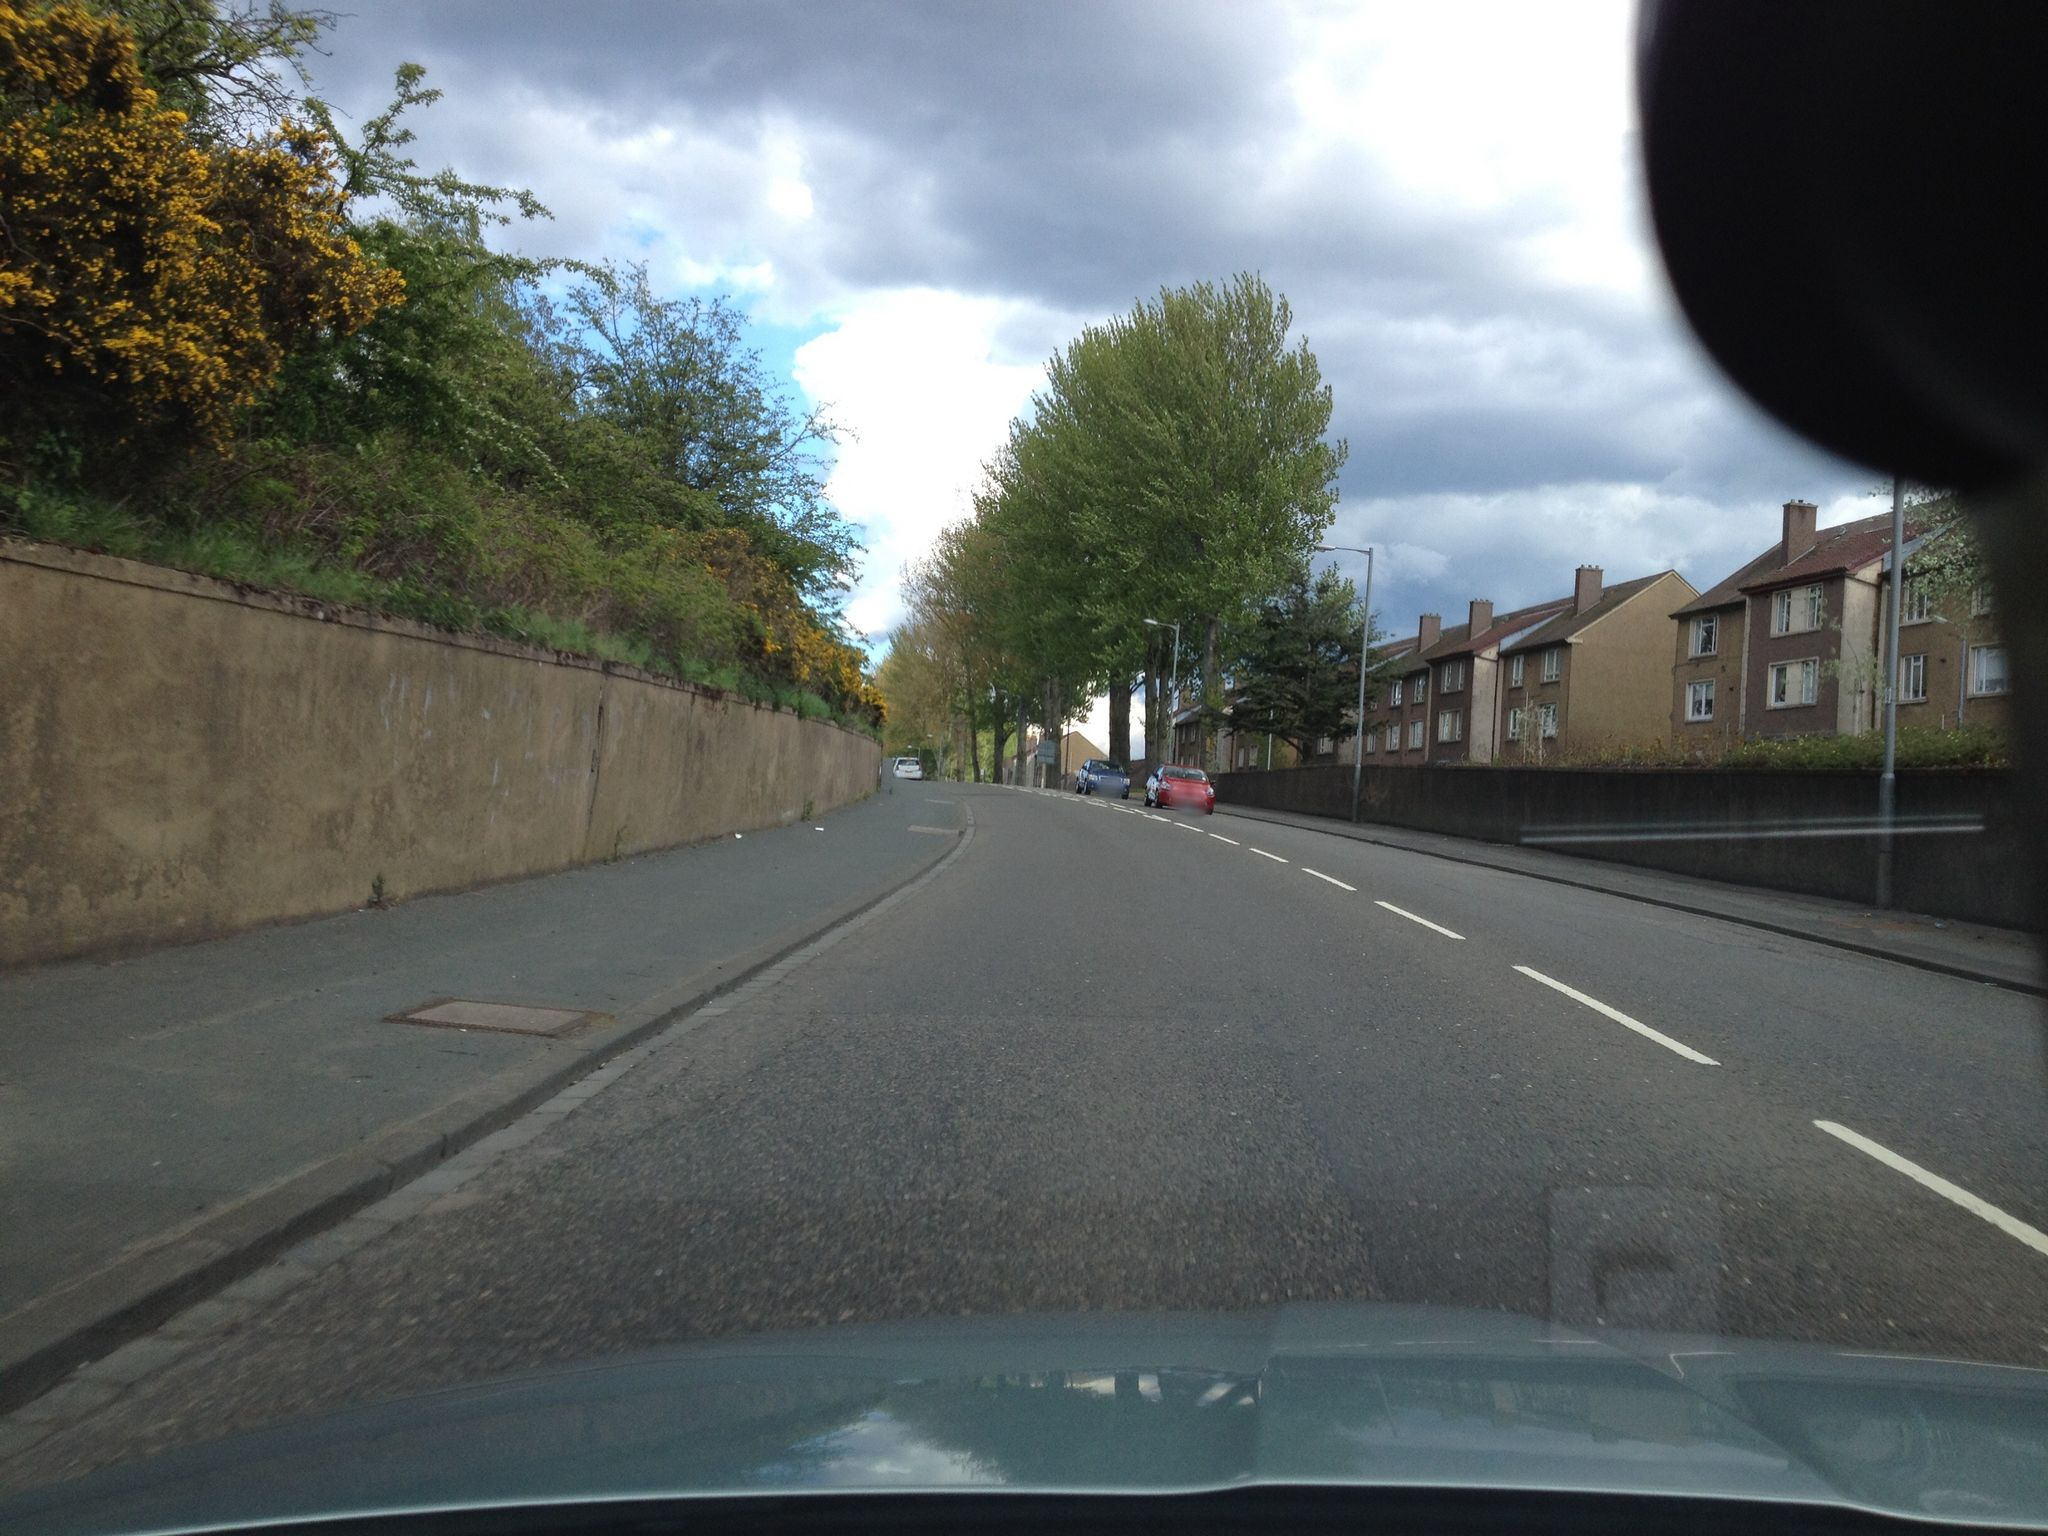car: (1142, 765, 1216, 816), (1076, 758, 1130, 800), (890, 757, 922, 779)
